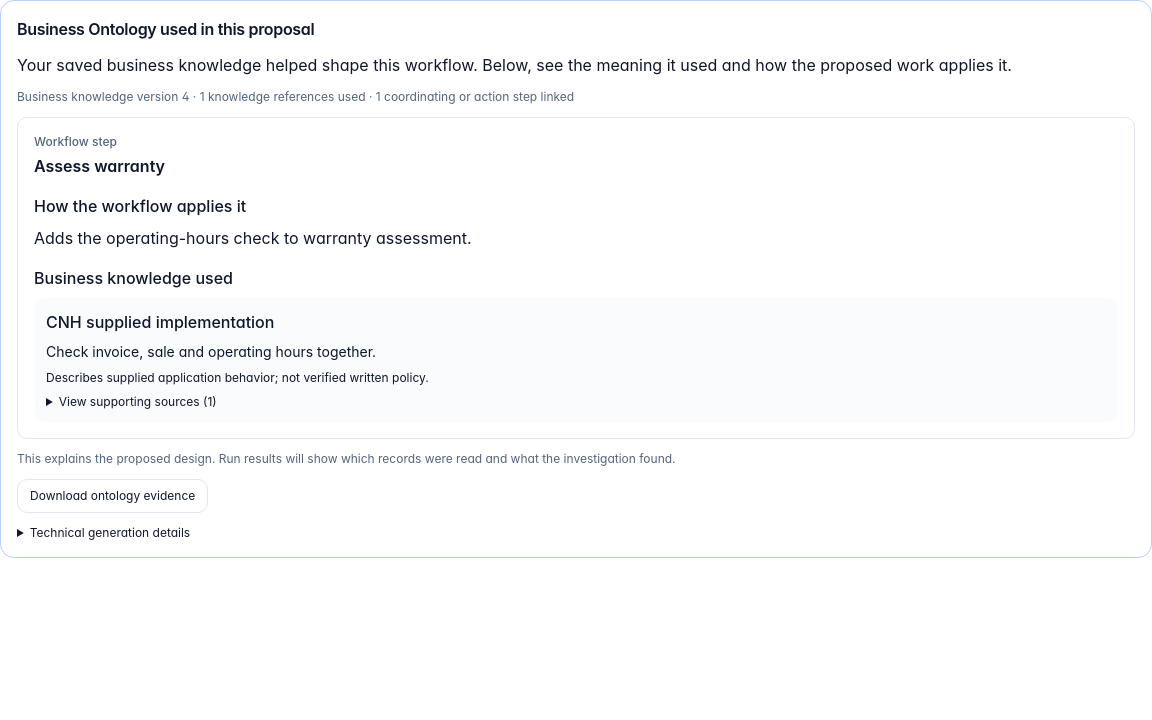
it: shows business meaning first while hiding source IDs and hashes
The width and height of the screenshot is (1152, 720).
Expected: the text "Check invoice, sale and operating hours together." is shown, [46,343,376,360]
Expected: the text "SHA-256:" is not shown
Click the heading "View supporting sources (1)" at (138, 402), box [59,394,217,409]
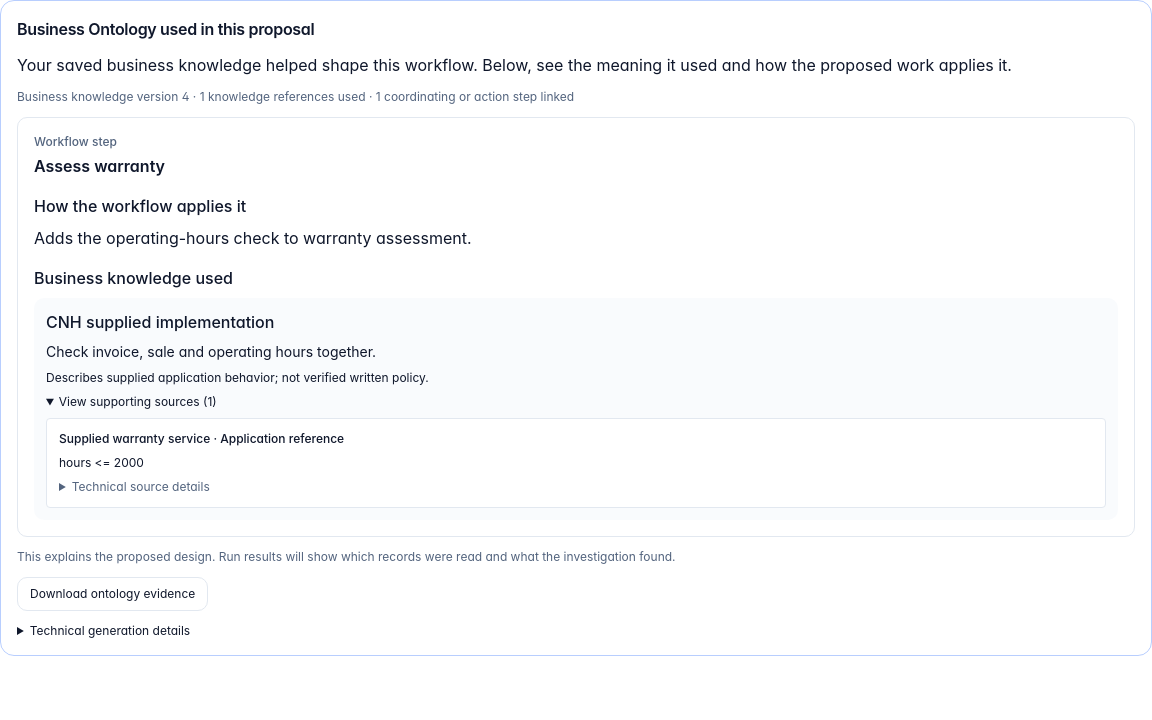
Expected: the text "SHA-256:" is not shown
Result: the text "hours <= 2000" is shown at [59,455,144,470]
Click the heading "Technical source details" at (141, 486), box [72,479,210,494]
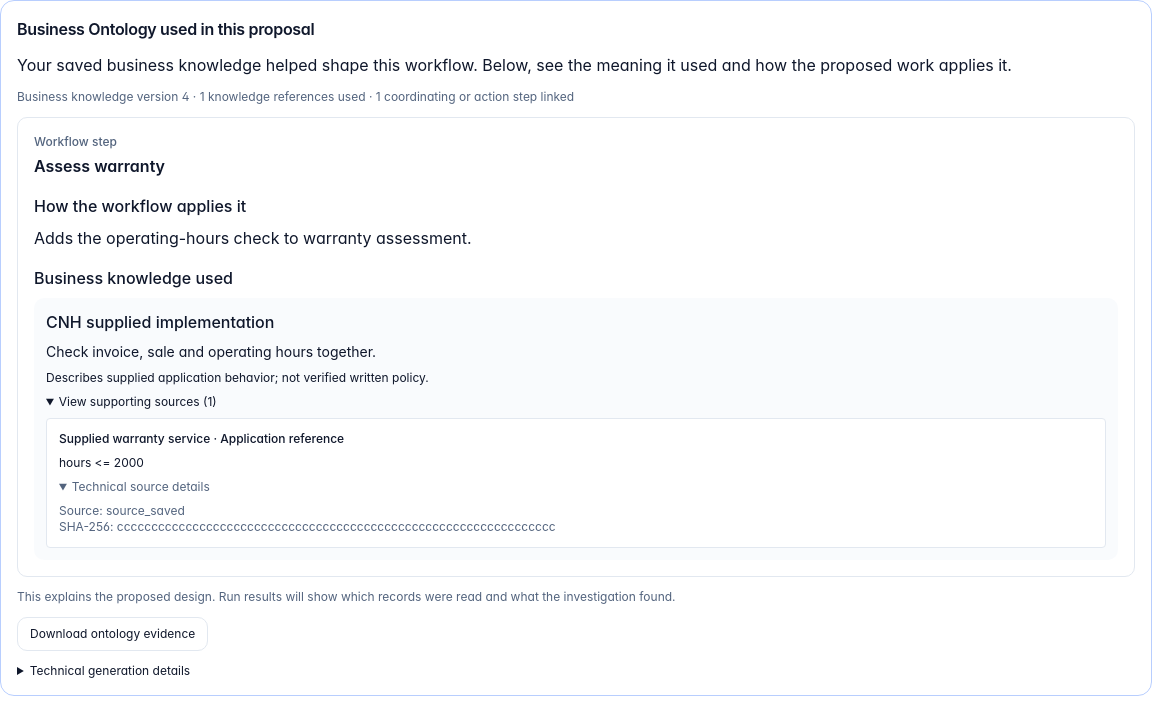
Result: the text "Source: source_saved" is shown at [59,503,556,534]
